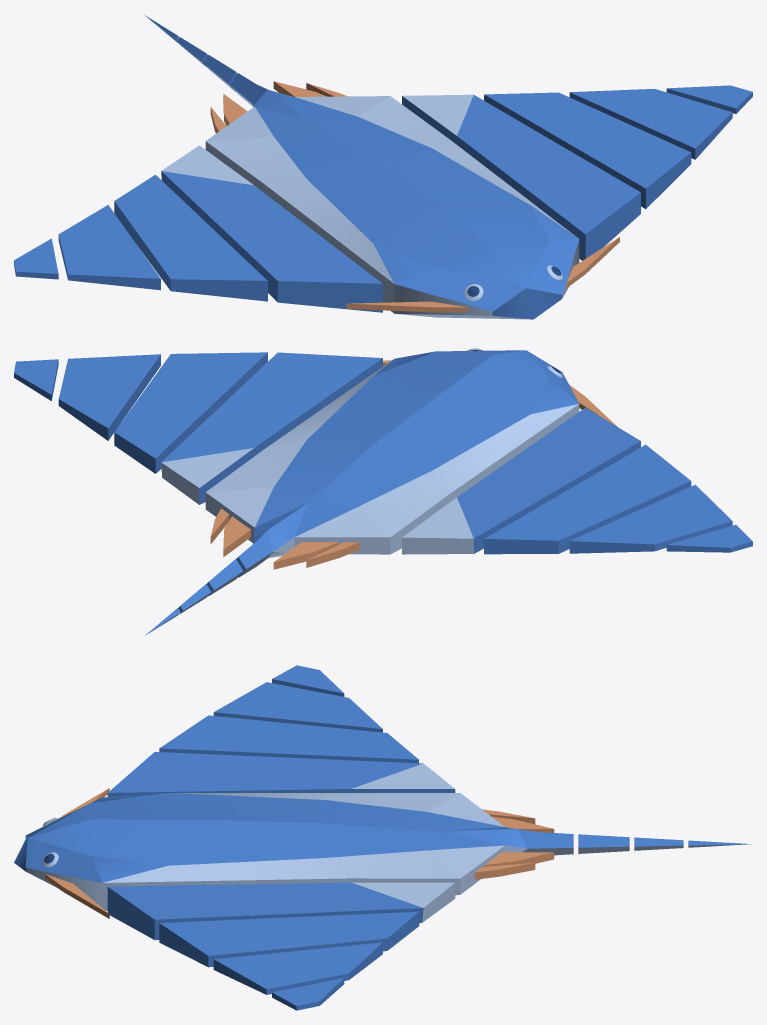
The model's file is manta.fbx.
The picture shows the model from 3 angles, top to bottom: view 1: azimuth 30°, elevation 25°; view 2: azimuth 150°, elevation 25°; view 3: azimuth 270°, elevation 25°; orthographic projection. The views are drawn at different scales.
Visible parts, largest first — view 1: body, rightfin1, leftfin1, rightfin2, leftfin2, leftfin3, rightfin3, leftfin4, rightfin4, tail1; view 2: body, leftfin1, rightfin1, rightfin2, leftfin2, rightfin3, leftfin3, rightfin4, leftfin4, tail1; view 3: body, leftfin1, rightfin1, leftfin2, rightfin2, leftfin3, rightfin3, leftfin4, rightfin4, tail1.
Boxes of the visible parts, left/top/right/bottom form: body: left=205, top=73, right=619, bottom=319; rightfin1: left=161, top=145, right=382, bottom=312; leftfin1: left=402, top=94, right=640, bottom=260; rightfin2: left=114, top=174, right=267, bottom=301; leftfin2: left=484, top=92, right=691, bottom=209; leftfin3: left=569, top=88, right=732, bottom=159; rightfin3: left=58, top=205, right=160, bottom=290; leftfin4: left=666, top=85, right=752, bottom=113; rightfin4: left=14, top=238, right=58, bottom=279; tail1: left=203, top=55, right=237, bottom=91; body: left=205, top=348, right=617, bottom=577; leftfin1: left=161, top=352, right=382, bottom=504; rightfin1: left=402, top=407, right=640, bottom=554; rightfin2: left=484, top=444, right=691, bottom=554; leftfin2: left=114, top=352, right=267, bottom=473; rightfin3: left=569, top=484, right=732, bottom=553; leftfin3: left=58, top=354, right=160, bottom=440; rightfin4: left=666, top=525, right=752, bottom=552; leftfin4: left=14, top=359, right=58, bottom=400; tail1: left=206, top=559, right=243, bottom=595; body: left=14, top=788, right=573, bottom=918; leftfin1: left=107, top=882, right=455, bottom=940; rightfin1: left=107, top=752, right=455, bottom=796; leftfin2: left=159, top=911, right=419, bottom=967; rightfin2: left=159, top=715, right=418, bottom=763; leftfin3: left=213, top=942, right=382, bottom=994; rightfin3: left=213, top=682, right=382, bottom=732; leftfin4: left=272, top=978, right=344, bottom=1010; rightfin4: left=272, top=665, right=344, bottom=696; tail1: left=578, top=834, right=629, bottom=853.
Bounding box in the file's own units: 462 × 43.31 × 423.
